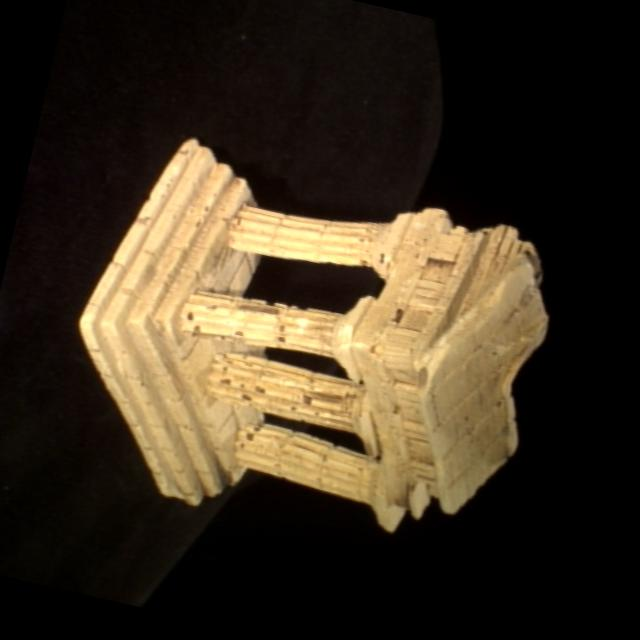Instance-Segmentation: (79, 139, 546, 530)
